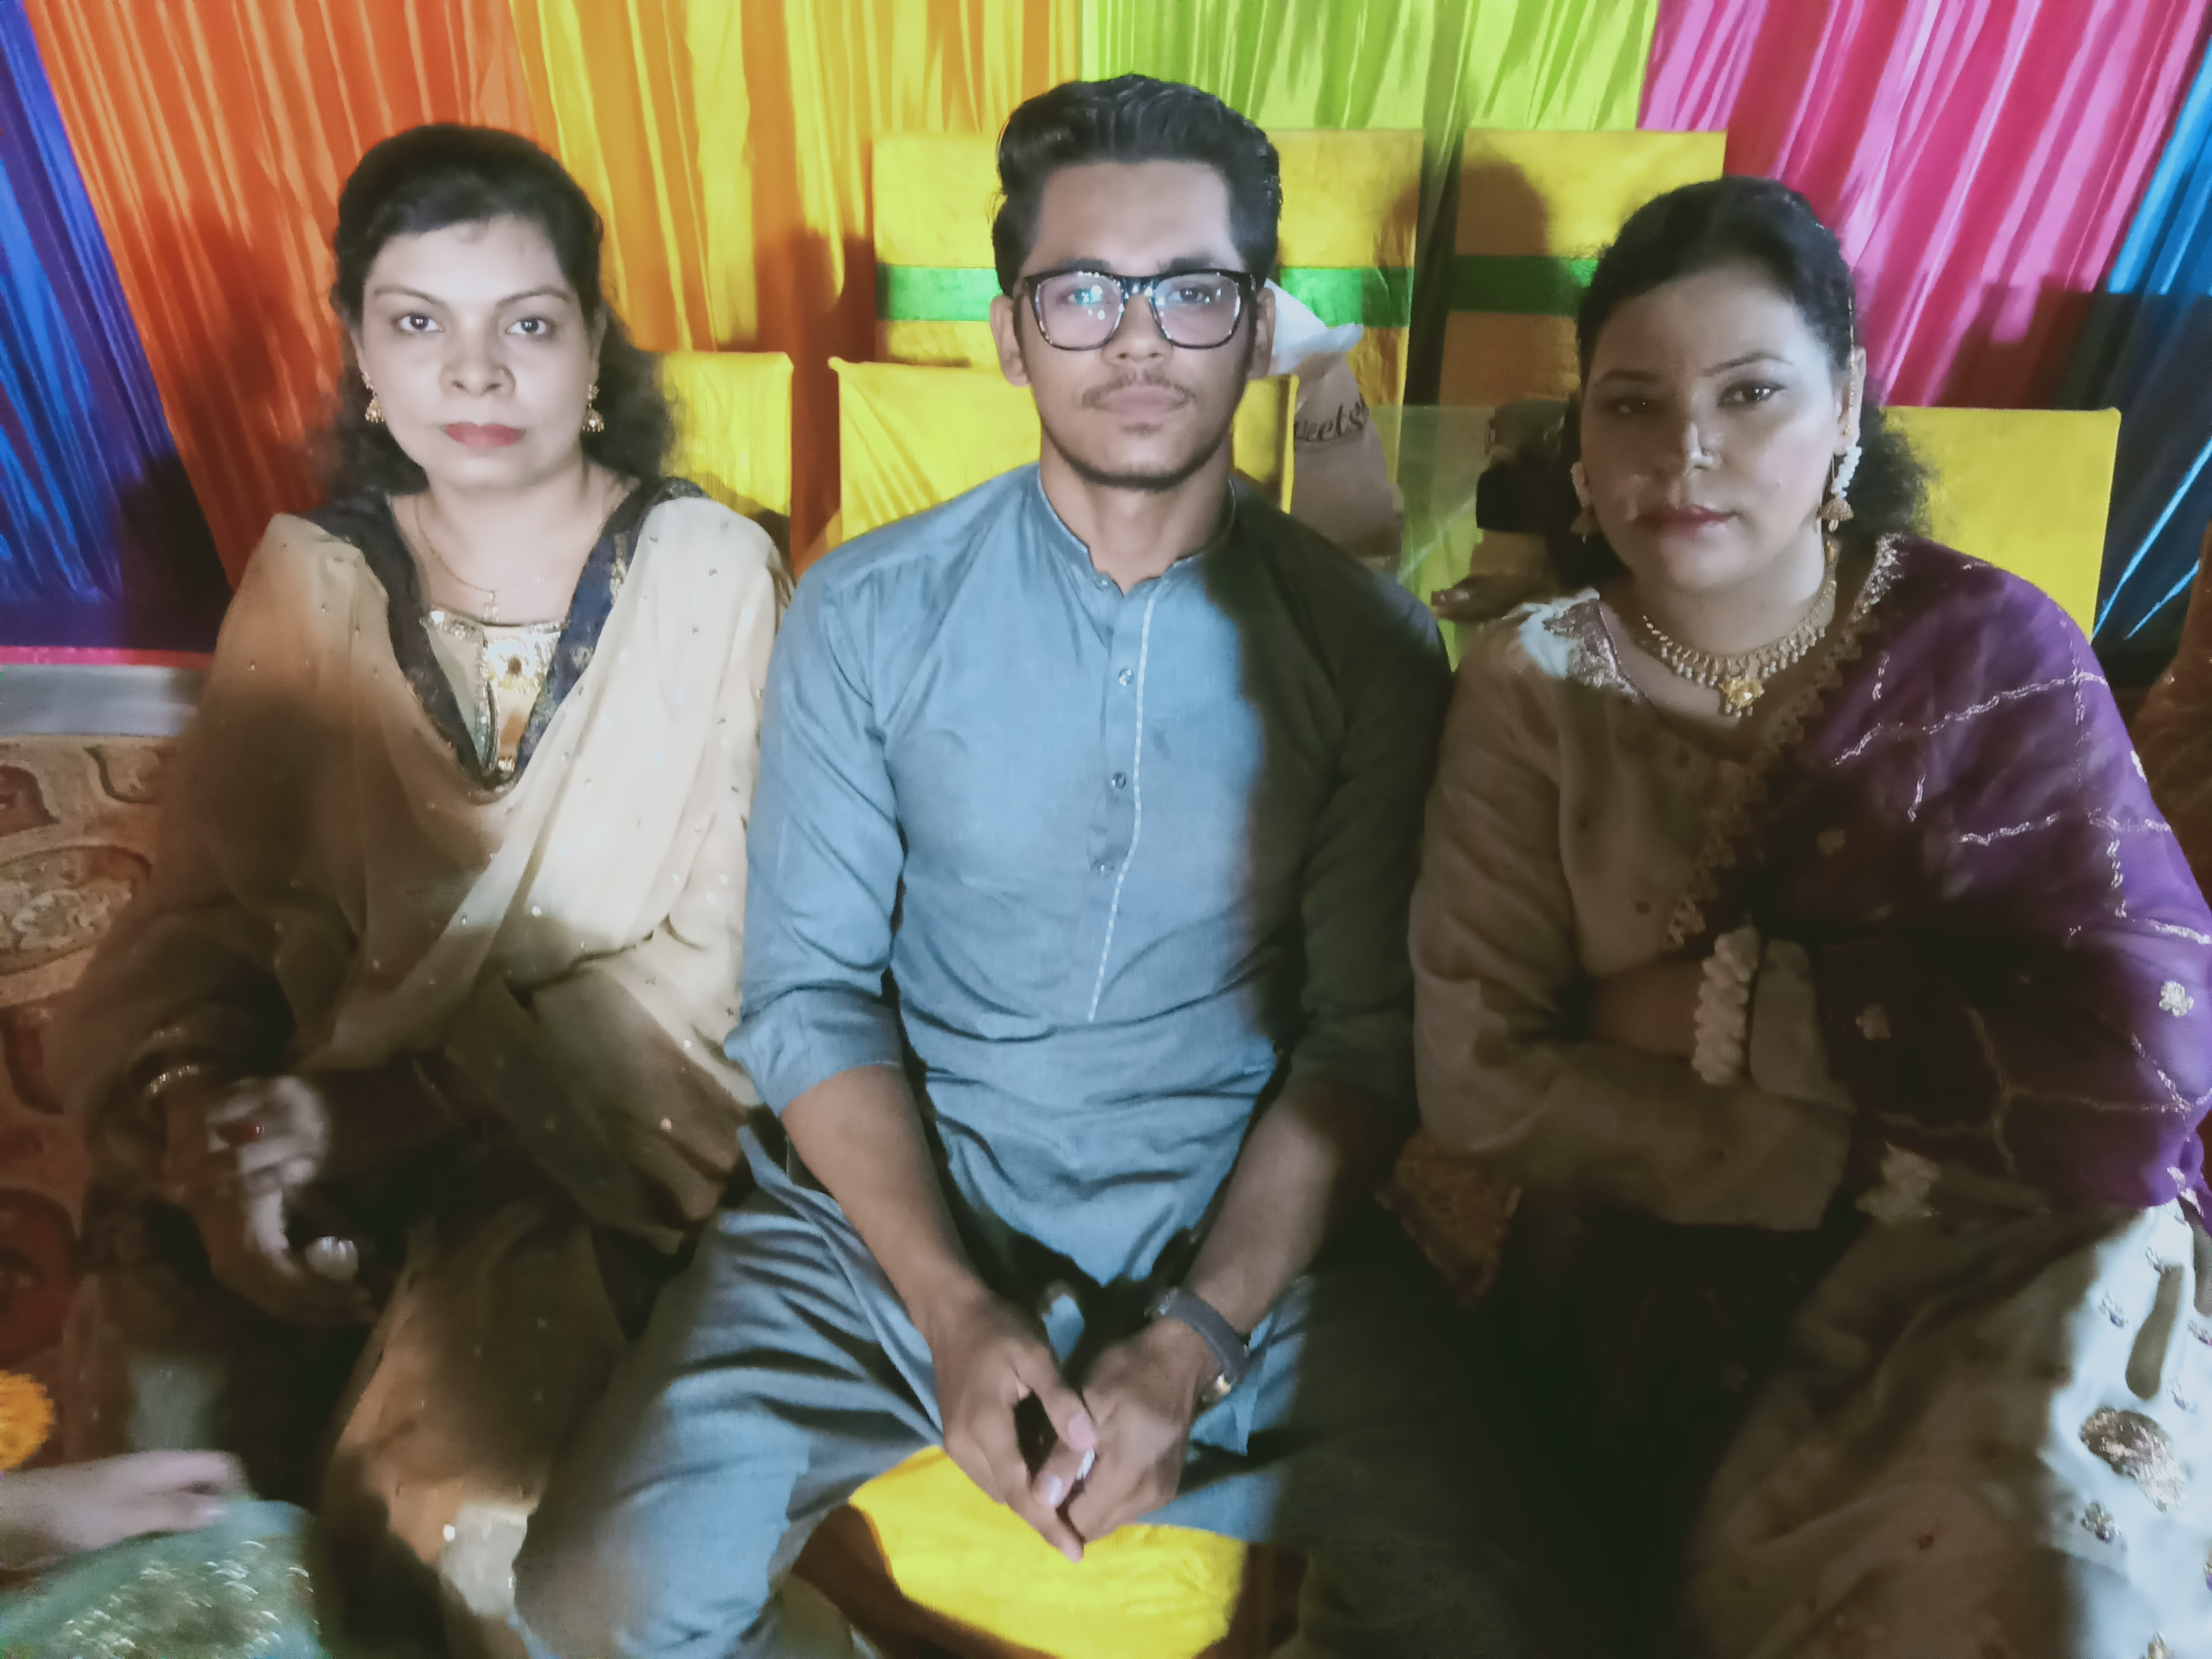NoMask: (1601, 342, 1825, 595), (1038, 238, 1241, 491), (368, 264, 579, 483)
